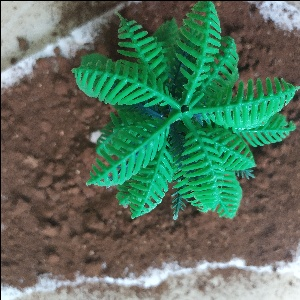plant: (83, 15, 279, 228)
